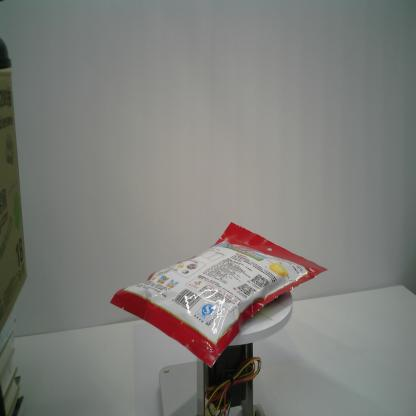Instant Drink: (109, 223, 330, 370)
